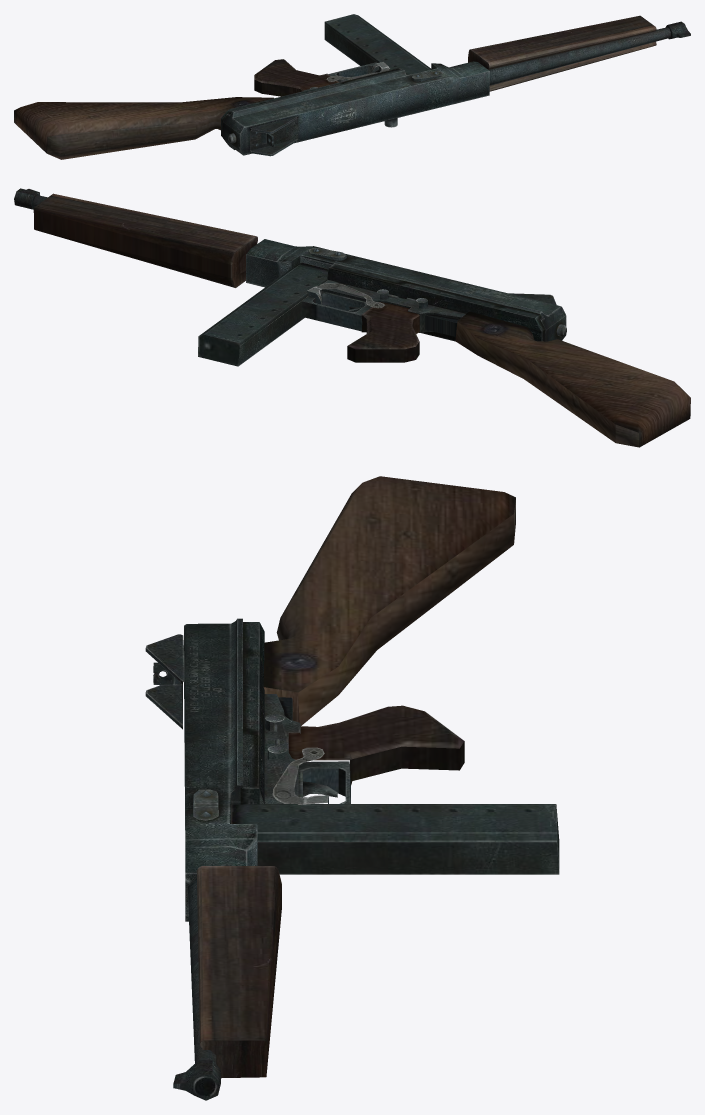
File: weapon_thompson.glb
3 renders of one model, top to bottom at view 1: azimuth 30°, elevation 25°; view 2: azimuth 150°, elevation 25°; view 3: azimuth 270°, elevation 25°, orthographic. The views are drawn at different scales.
Size of the model in its own units: 34.97 by 2.49 by 10.51.
1 material, 1 textured.
